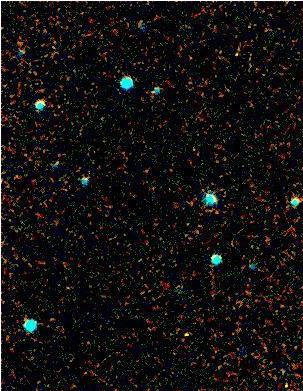star: (228, 41, 258, 71)
